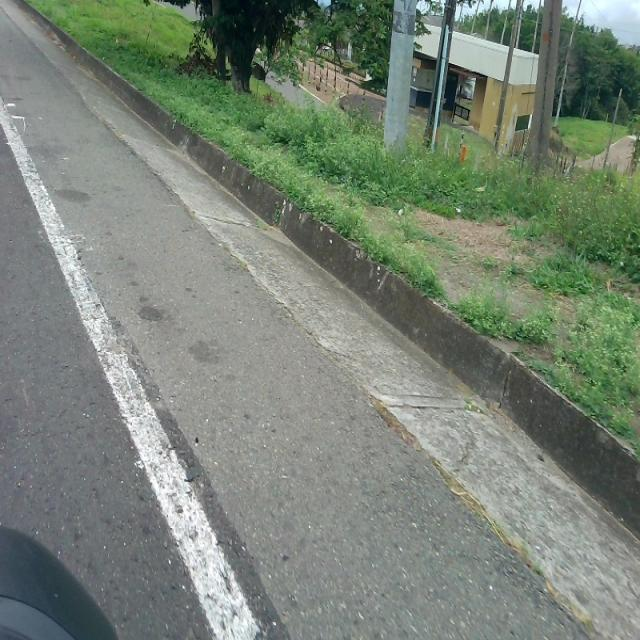DITCH: (1, 1, 639, 638), (1, 1, 638, 638)
